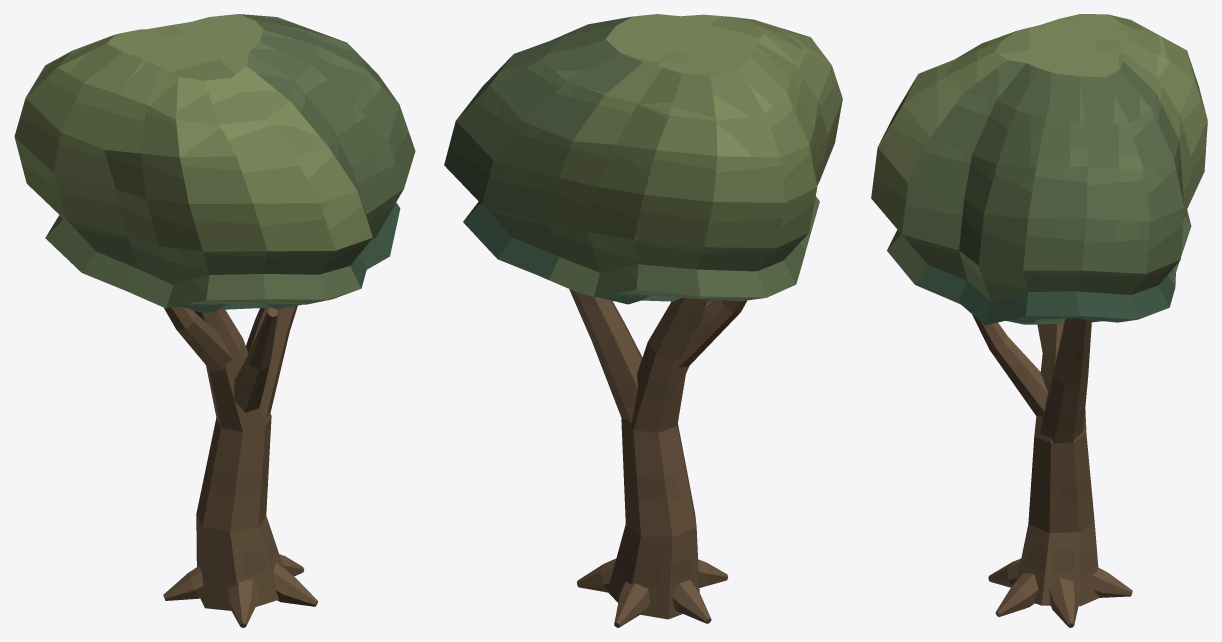
File: tree.glb
3 views of the same model, side by side, from view 1: azimuth 30°, elevation 25°; view 2: azimuth 150°, elevation 25°; view 3: azimuth 270°, elevation 25° (orthographic). The views are drawn at different scales.
Parts seen in each view (by area): view 1: continuous-oak-crown-leaf_light, continuous-oak-crown-leaf, crooked-main-trunk, front-bough, continuous-oak-crown-leaf_dark, west-fork, east-fork, buttress-root.004, buttress-root.003, buttress-root.002; view 2: continuous-oak-crown-leaf_light, continuous-oak-crown-leaf, crooked-main-trunk, east-fork, continuous-oak-crown-leaf_dark, west-fork, buttress-root.001, buttress-root.002, buttress-root; view 3: continuous-oak-crown-leaf, continuous-oak-crown-leaf_light, crooked-main-trunk, continuous-oak-crown-leaf_dark, east-fork, front-bough, buttress-root.004, buttress-root, buttress-root.001, buttress-root.003.
Boxes of the visible parts, x1,y1,x2,y2 form: continuous-oak-crown-leaf_light: [14, 14, 372, 251]; continuous-oak-crown-leaf: [30, 14, 415, 308]; crooked-main-trunk: [194, 309, 283, 610]; front-bough: [234, 308, 278, 412]; continuous-oak-crown-leaf_dark: [178, 202, 400, 313]; west-fork: [164, 306, 232, 371]; east-fork: [246, 305, 297, 418]; buttress-root.004: [273, 563, 317, 606]; buttress-root.003: [228, 579, 258, 627]; buttress-root.002: [163, 566, 203, 600]; continuous-oak-crown-leaf_light: [549, 14, 842, 248]; continuous-oak-crown-leaf: [444, 16, 819, 301]; crooked-main-trunk: [607, 298, 707, 619]; east-fork: [569, 289, 642, 422]; continuous-oak-crown-leaf_dark: [463, 201, 718, 304]; west-fork: [678, 300, 746, 368]; buttress-root.001: [614, 581, 650, 627]; buttress-root.002: [672, 580, 711, 623]; buttress-root: [577, 558, 616, 592]; continuous-oak-crown-leaf: [887, 60, 1191, 302]; continuous-oak-crown-leaf_light: [871, 14, 1207, 234]; crooked-main-trunk: [1017, 323, 1100, 606]; continuous-oak-crown-leaf_dark: [915, 265, 1175, 325]; east-fork: [1039, 318, 1091, 443]; front-bough: [972, 314, 1047, 416]; buttress-root.004: [995, 573, 1038, 616]; buttress-root: [1049, 577, 1078, 627]; buttress-root.001: [1092, 567, 1132, 597]; buttress-root.003: [988, 558, 1021, 587].
Size of the model in its own units: 2.09 by 3.28 by 1.87.
1 material, 1 textured.
